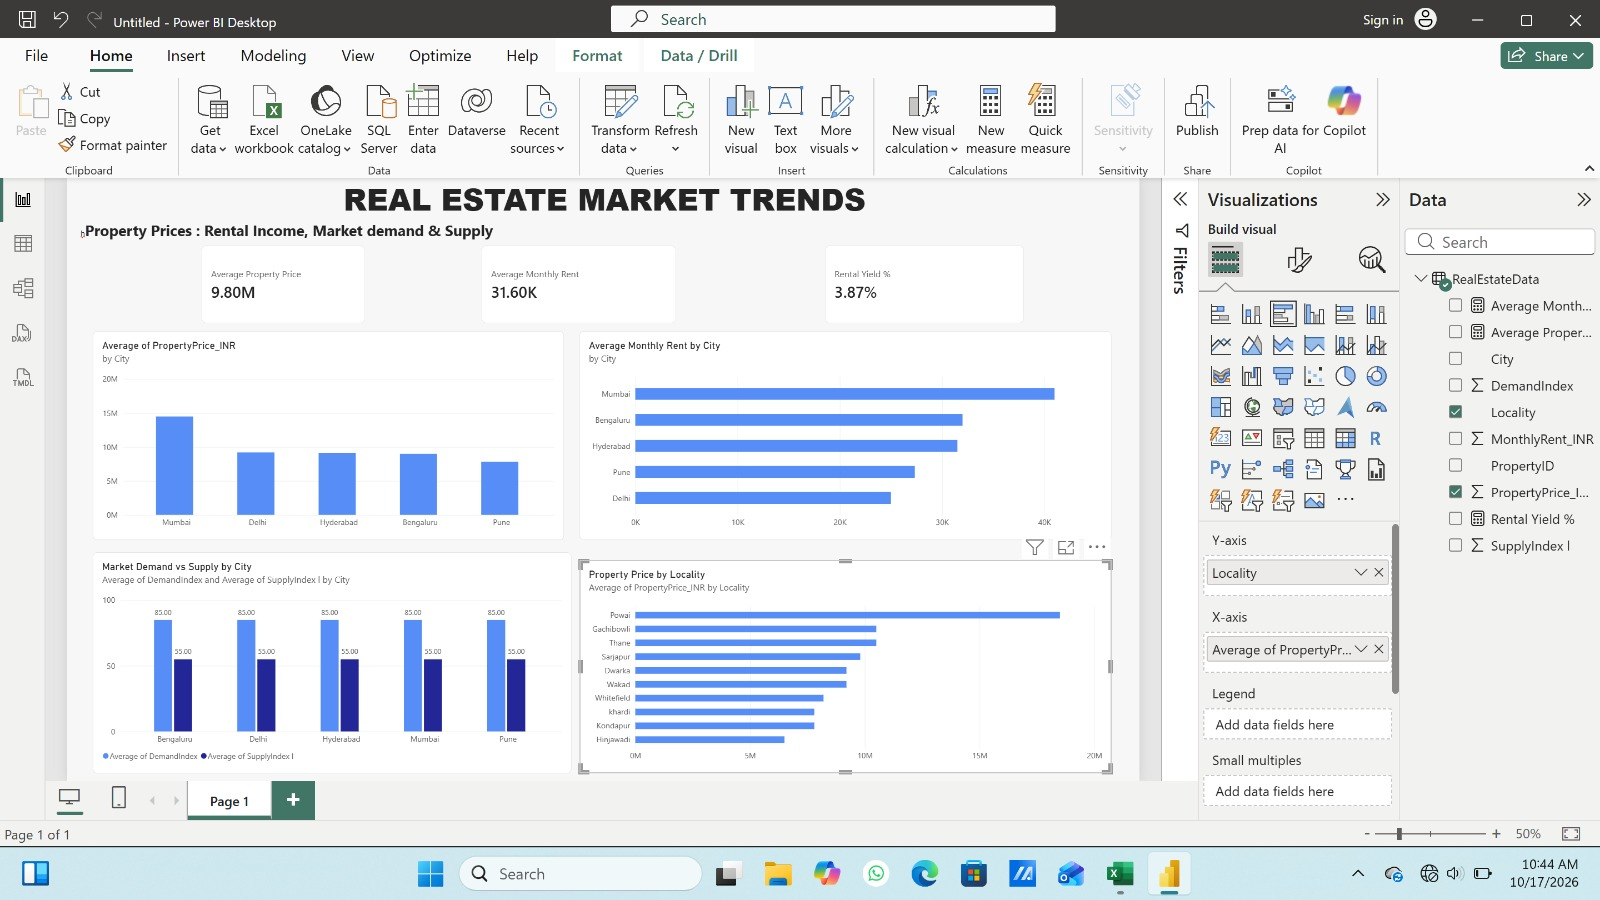

This screenshot's page, from the dashboard's own definition file:
{"tool":"powerbi","page":{"name":"Page 1","canvas":[1920,1080],"ordinal":0},"visuals":[{"type":"cardVisual","fields":{"Data":["RealEstateData.Average Property Price"]},"box":[240.7,121.3,292.4,139.2],"z":0},{"type":"cardVisual","fields":{"Data":["RealEstateData.Average Monthly Rent"]},"box":[741.9,121.3,348.1,139.2],"z":1},{"type":"cardVisual","fields":{"Data":["RealEstateData.Rental Yield %"]},"box":[1356.5,121.3,356,139.2],"z":2},{"type":"clusteredColumnChart","fields":{"Category":["RealEstateData.City"],"Y":["Avg(RealEstateData.PropertyPrice_INR)"]},"box":[45.7,274.5,843.3,373.9],"z":3},{"type":"clusteredBarChart","fields":{"Category":["RealEstateData.City"],"Y":["Avg(RealEstateData.MonthlyRent_INR)"]},"box":[916.9,274.5,952.7,373.9],"z":4},{"type":"clusteredColumnChart","title":"Market Demand vs Supply by City","fields":{"Category":["RealEstateData.City"],"Y":["Avg(RealEstateData.DemandIndex l)","Avg(RealEstateData.SupplyIndex l)"]},"box":[45.7,670.3,857.2,395.8],"z":5},{"type":"clusteredBarChart","title":"Property Price by Locality","fields":{"Category":["RealEstateData.Locality"],"Y":["Avg(RealEstateData.PropertyPrice_INR)"]},"box":[916.9,684.2,952.7,381.9],"z":6},{"type":"textbox","box":[23.9,0,1875.6,147.2],"z":7}]}

Visuals, with their boxes on the page's 1920x1080 design canvas (x1, y1, x2, y2). These are canvas units, not pixel positions in the 1600x900 screenshot, which may show the page scaled, cropped or inside an application window:
cardVisual - RealEstateData.Average Property Price: left=241, top=121, right=533, bottom=260
cardVisual - RealEstateData.Average Monthly Rent: left=742, top=121, right=1090, bottom=260
cardVisual - RealEstateData.Rental Yield %: left=1356, top=121, right=1712, bottom=260
clusteredColumnChart - RealEstateData.City x Avg(RealEstateData.PropertyPrice_INR): left=46, top=274, right=889, bottom=648
clusteredBarChart - RealEstateData.City x Avg(RealEstateData.MonthlyRent_INR): left=917, top=274, right=1870, bottom=648
"Market Demand vs Supply by City" clusteredColumnChart: left=46, top=670, right=903, bottom=1066
"Property Price by Locality" clusteredBarChart: left=917, top=684, right=1870, bottom=1066
textbox: left=24, top=0, right=1900, bottom=147
